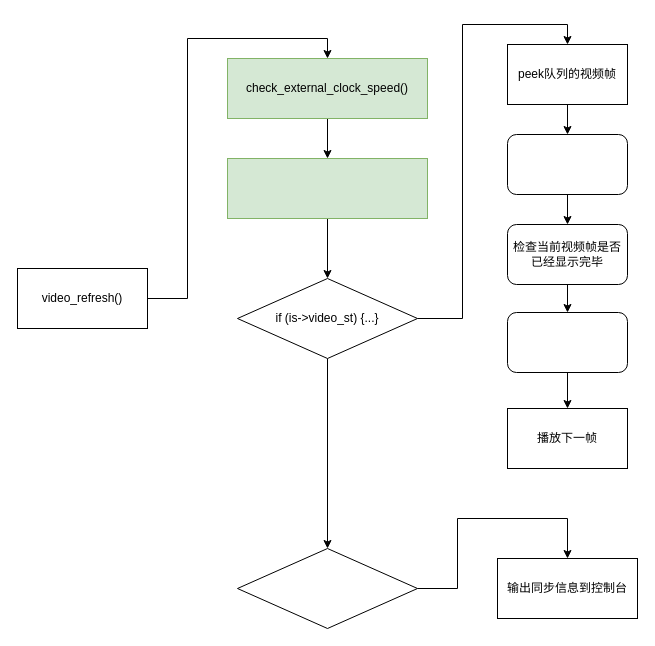
Some shapes in this 655 by 646 pixel diagram are drawn without their labels. The centre of each missing label's shape, as x and y in pixels:
if (show_status) {...}: pixel 327 588
显示音频波形图: pixel 327 188
检查下一帧是否过期: pixel 567 342
检测视频帧的序列号: pixel 567 164
